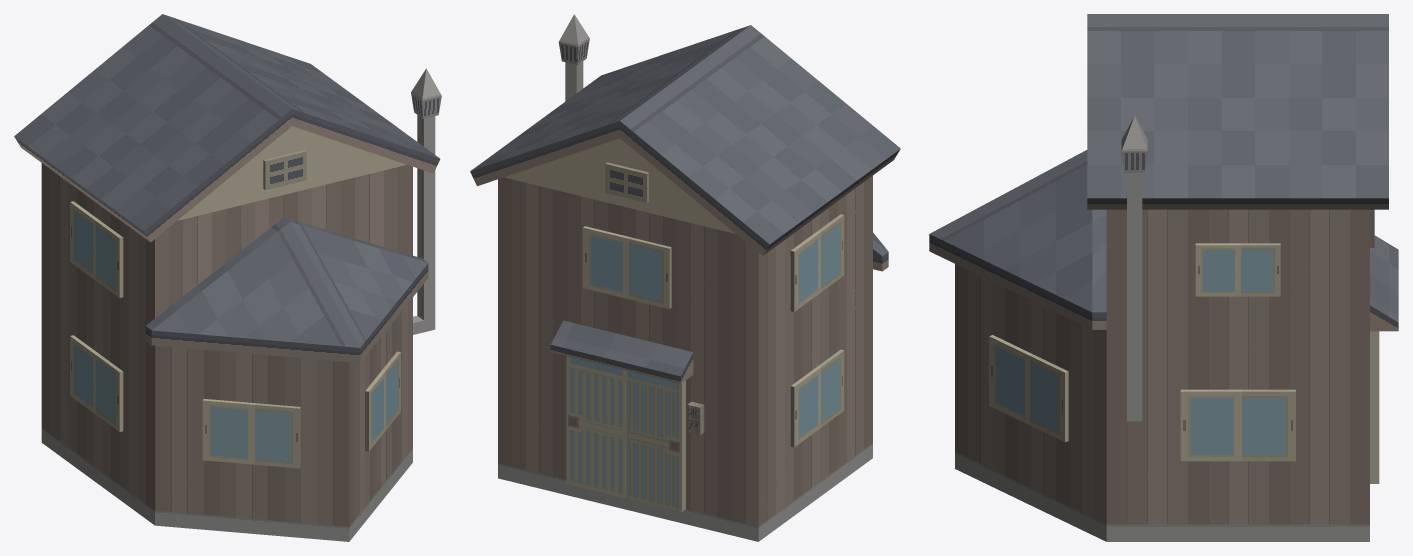
The model's file is 00f8_Kido_Residence.glb.
3 views of the same model, side by side, from view 1: azimuth 30°, elevation 25°; view 2: azimuth 150°, elevation 25°; view 3: azimuth 270°, elevation 25° (orthographic). The views are drawn at different scales.
Visible parts, largest first — view 1: part_0; view 2: part_0; view 3: part_0.
Boxes of the visible parts, box(x1,y1,x2,y2) form: part_0: box(14, 14, 441, 541); part_0: box(470, 14, 900, 541); part_0: box(929, 14, 1398, 541).
Size of the model in its own units: 3.72 by 4.44 by 4.16.
Materials: 1 (1 with a texture image).
